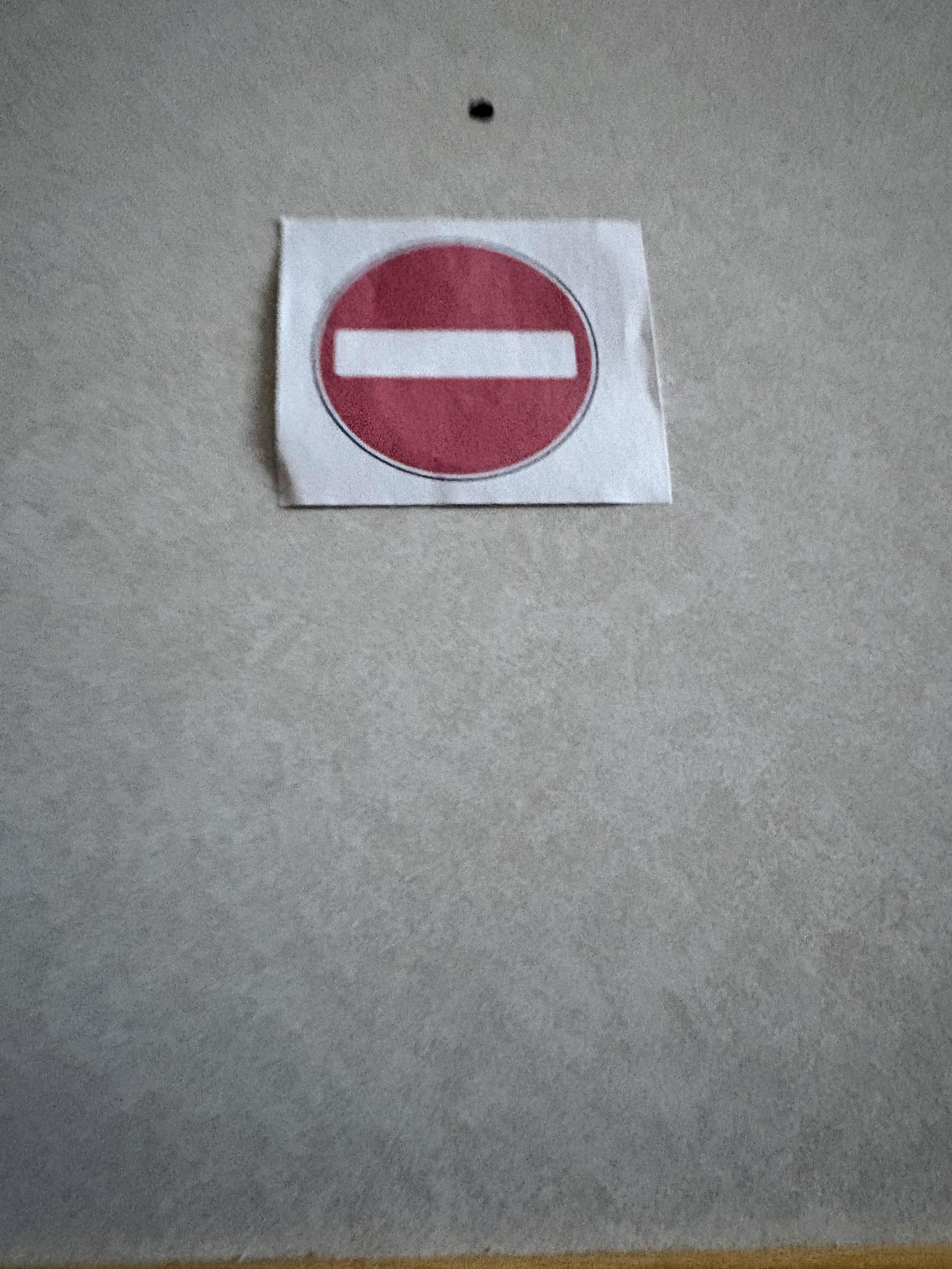No Entry: (278, 210, 677, 514)
